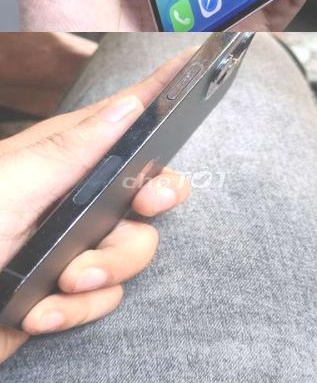scratch: (25, 32, 239, 222)
